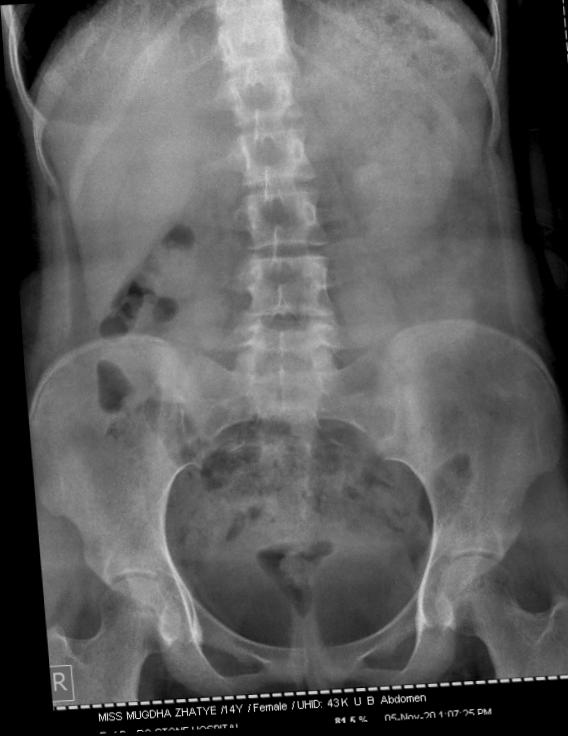vertebrae: (223, 71, 302, 126)
